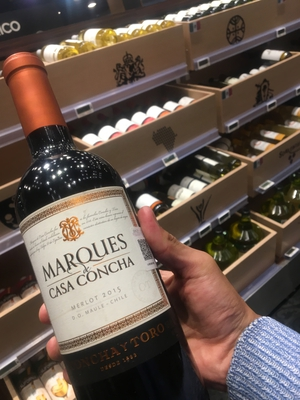marques de casa concha merlot: (9, 55, 185, 398)
